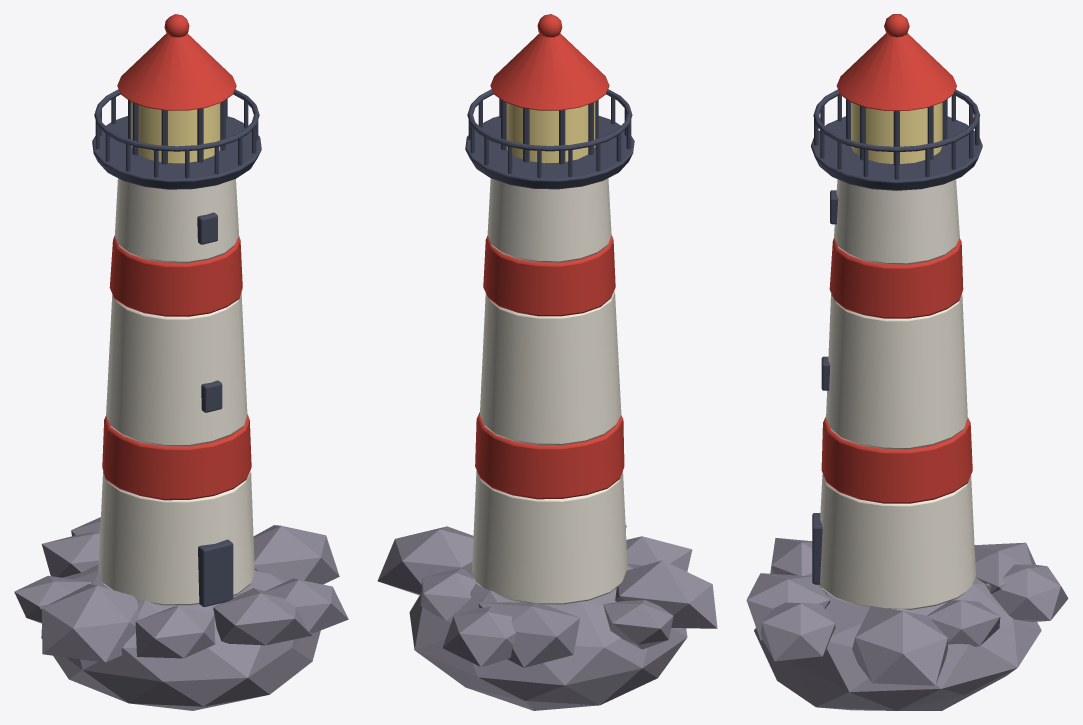
File: lighthouse.glb
The picture shows the model from 3 angles, left to right: view 1: azimuth 30°, elevation 25°; view 2: azimuth 150°, elevation 25°; view 3: azimuth 270°, elevation 25°; orthographic projection.
Visible parts, largest first — view 1: Rocks, Tower2, Tower0, Tower4, Tower1, Tower3, Cap, Gallery, Openings, Lantern, Railing, Mullions; view 2: Rocks, Tower2, Tower0, Tower4, Tower1, Tower3, Cap, Gallery, Lantern, Railing, Mullions; view 3: Rocks, Tower2, Tower0, Tower4, Tower1, Tower3, Cap, Gallery, Lantern, Railing, Mullions, Openings.
Part boxes in pixels (<box>): Rocks: <box>14,517,348,710</box>; Tower2: <box>106,292,247,446</box>; Tower0: <box>98,471,254,605</box>; Tower4: <box>115,178,238,262</box>; Tower1: <box>102,414,251,500</box>; Tower3: <box>109,235,242,316</box>; Cap: <box>117,14,236,110</box>; Gallery: <box>92,116,261,189</box>; Openings: <box>197,212,233,606</box>; Lantern: <box>131,102,220,163</box>; Railing: <box>94,89,259,178</box>; Mullions: <box>128,100,225,164</box>; Rocks: <box>377,525,717,710</box>; Tower2: <box>480,291,621,445</box>; Tower0: <box>472,470,627,604</box>; Tower4: <box>487,178,611,262</box>; Tower1: <box>475,412,624,499</box>; Tower3: <box>483,235,615,316</box>; Cap: <box>490,14,609,110</box>; Gallery: <box>465,116,634,189</box>; Lantern: <box>506,102,595,163</box>; Railing: <box>467,89,632,178</box>; Mullions: <box>501,100,598,164</box>; Rocks: <box>746,538,1068,710</box>; Tower2: <box>826,294,967,449</box>; Tower0: <box>820,474,975,609</box>; Tower4: <box>834,179,959,264</box>; Tower1: <box>821,417,972,503</box>; Tower3: <box>829,238,963,318</box>; Cap: <box>836,14,956,110</box>; Gallery: <box>811,116,982,190</box>; Lantern: <box>851,102,942,163</box>; Railing: <box>813,89,980,179</box>; Mullions: <box>846,99,947,165</box>; Openings: <box>812,190,838,584</box>.
Size of the model in its own units: 5.51 by 11.7 by 5.
